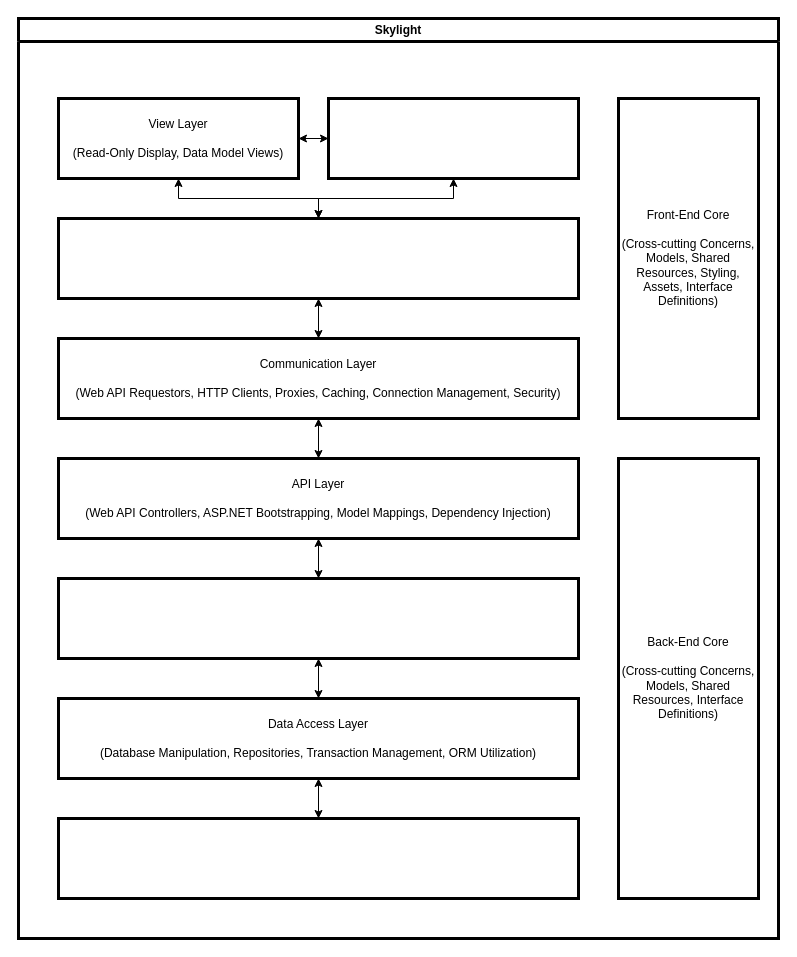
This 797x957 diagram has some shape labels left out. Each missing label, with the box of its shape:
Database (Relational Database, Data Storage): (56, 816, 580, 900)
Form Layer (Input, Controls, Form Models, Validation): (326, 96, 580, 180)
Presentation Layer (Frameworks, Routing, Components, Layouts, Form Submission): (56, 216, 580, 300)
Service Layer (Business Logic, Interface Implementations): (56, 576, 580, 660)
